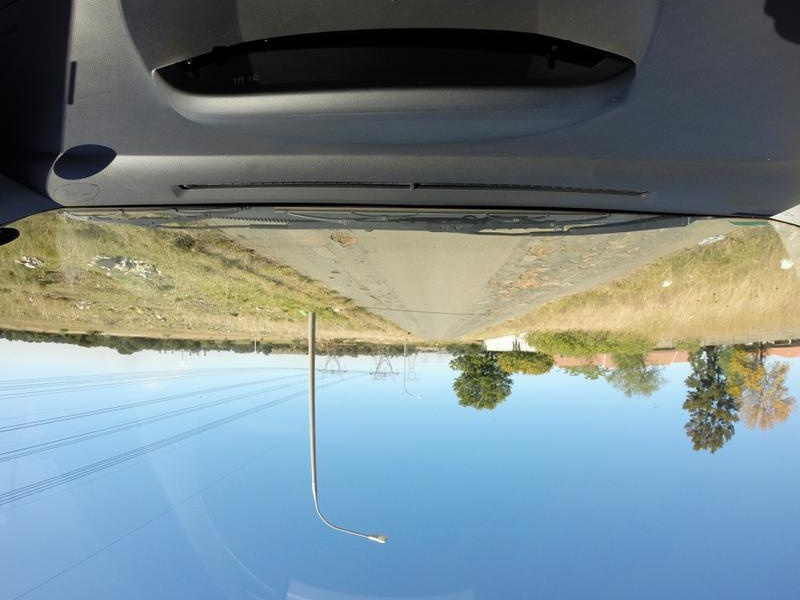pothole: (480, 275, 541, 301), (325, 231, 368, 250), (519, 244, 566, 260), (580, 243, 602, 268), (615, 230, 629, 256)
